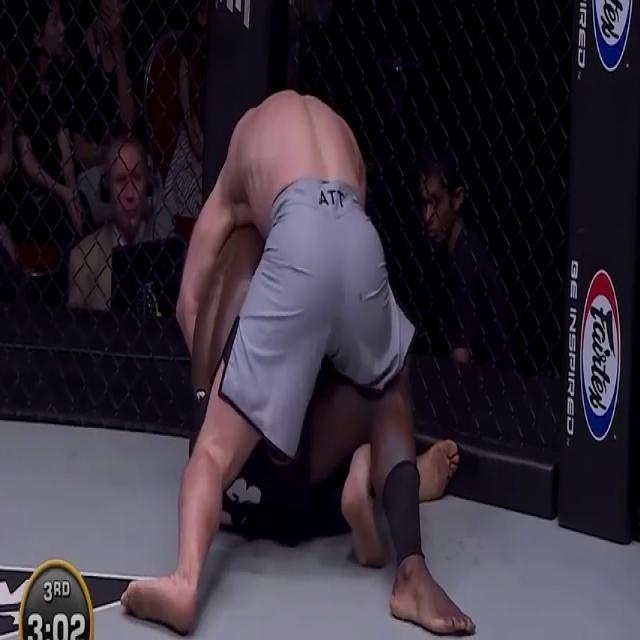fight: (124, 80, 473, 637)
